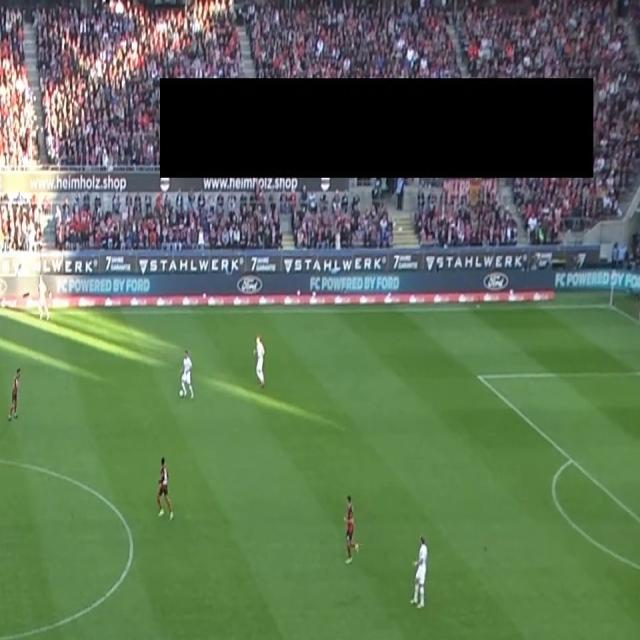ball: (179, 388, 184, 398)
